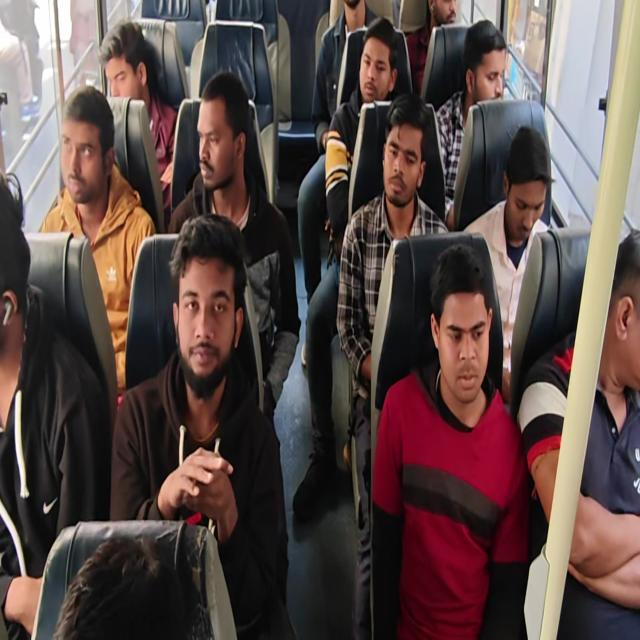person: (2, 1, 638, 638), (109, 212, 293, 638), (370, 242, 530, 638), (336, 91, 449, 637), (292, 15, 399, 519), (0, 170, 112, 638), (516, 226, 640, 638), (167, 70, 301, 436), (38, 85, 156, 405), (462, 124, 553, 404), (297, 0, 380, 306), (97, 18, 178, 228), (324, 16, 399, 240), (434, 19, 507, 228), (53, 533, 188, 639), (405, 0, 457, 97)
